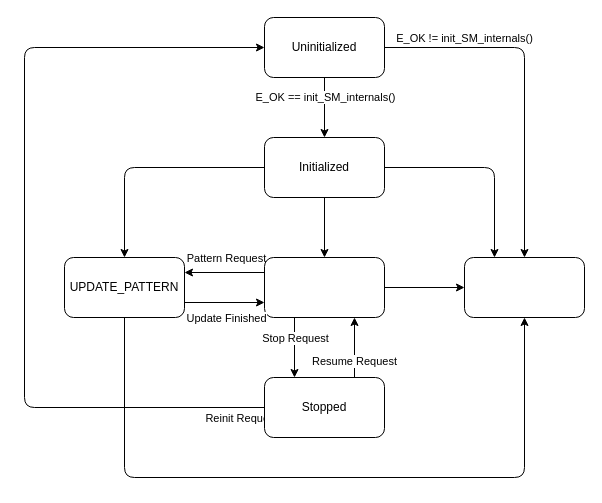
The diagram is 602 pixels wide and 503 high, and some of its shapes have lost their labels. The centre of each missing label's shape, as x and y in pixels:
Fault: point 524,287
IDLE: point 324,287
